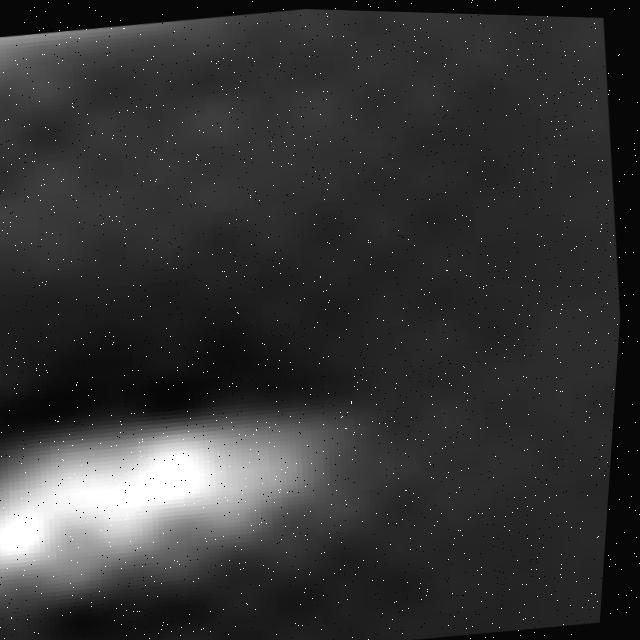person: (1, 358, 394, 631), (1, 9, 242, 120)
